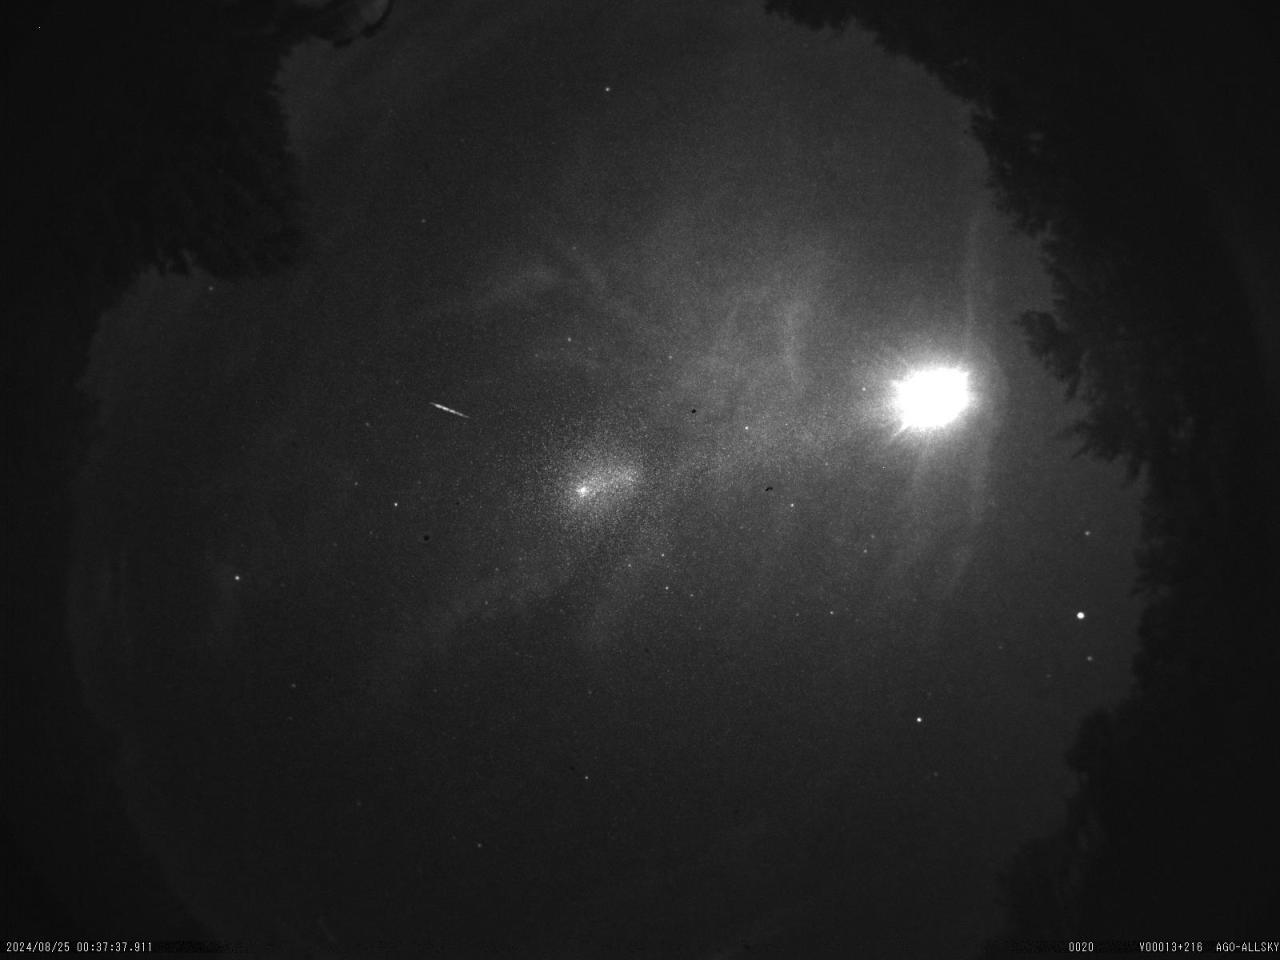Meteor: (430, 399, 471, 418)
